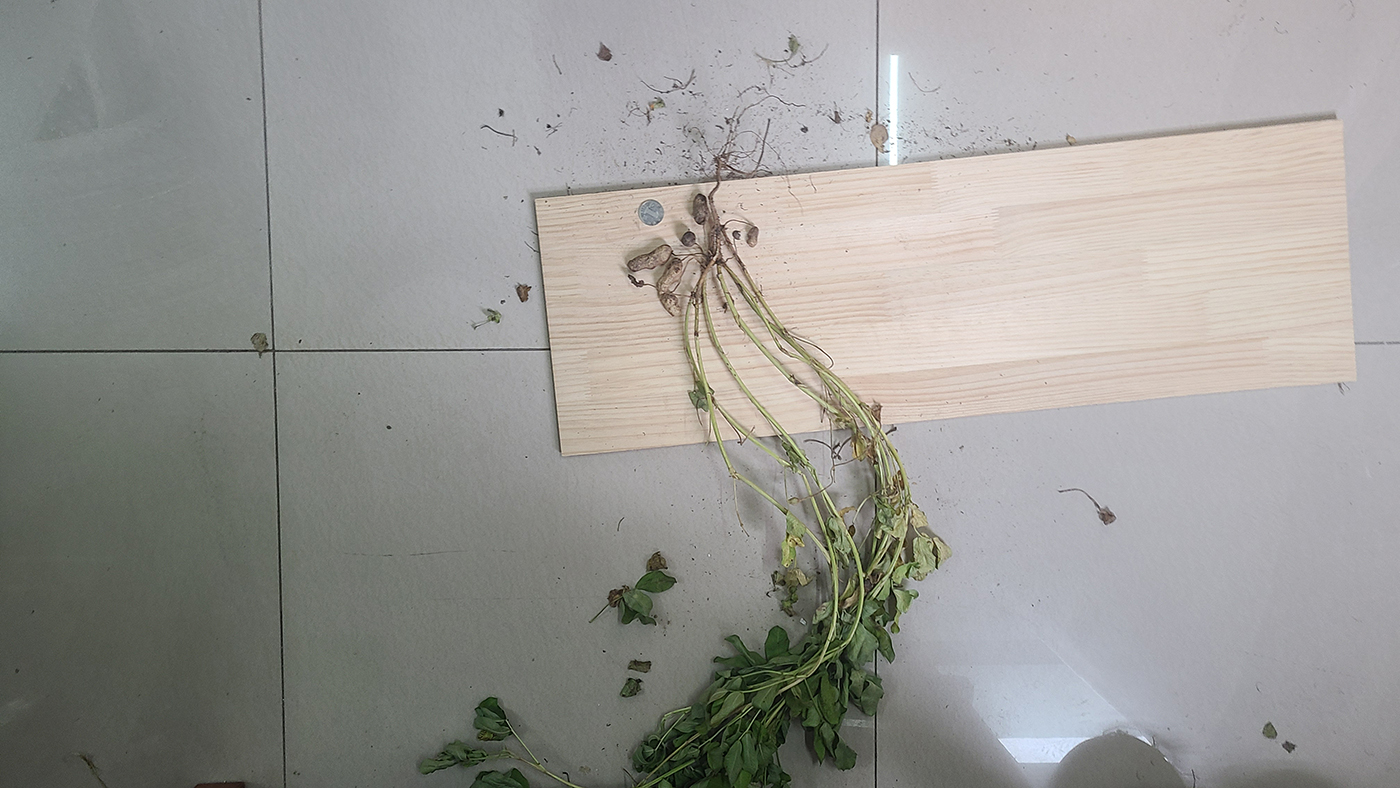h: (661, 290, 681, 314)
l: (627, 244, 672, 271), (656, 258, 683, 293), (693, 193, 708, 225), (746, 226, 760, 247), (681, 230, 697, 247), (627, 274, 644, 288), (730, 228, 742, 240)
